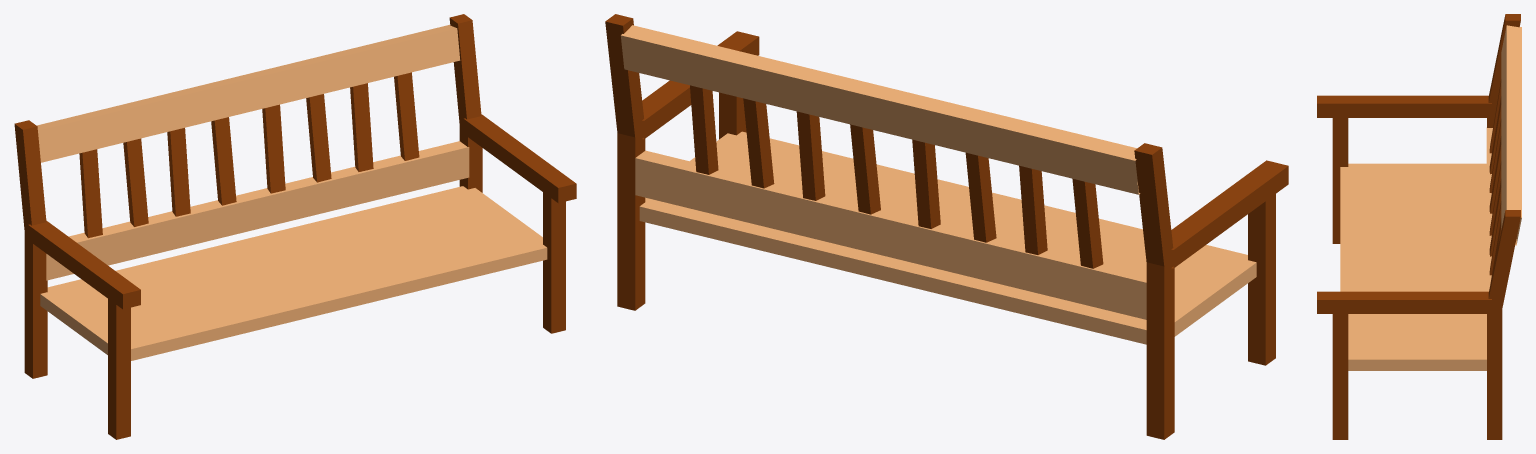
File: bench_3.FBX
The picture shows the model from 3 angles, left to right: view 1: azimuth 30°, elevation 25°; view 2: azimuth 150°, elevation 25°; view 3: azimuth 270°, elevation 25°; orthographic projection. The views are drawn at different scales.
Visible parts, largest first — view 1: bench_3; view 2: bench_3; view 3: bench_3.
Part boxes in pixels (box(x1,y1,x2,y2)): bench_3: box(14, 14, 576, 439); bench_3: box(605, 14, 1288, 439); bench_3: box(1317, 14, 1521, 439).
Size of the model in its own units: 2.73 by 1.39 by 1.16.
Materials: 1 (1 with a texture image).
